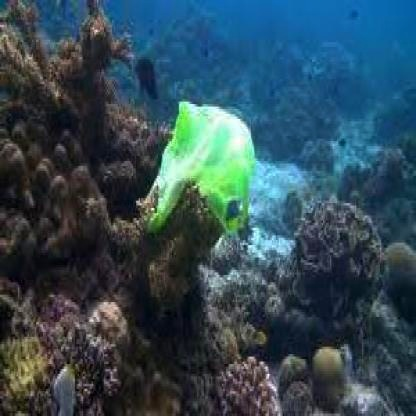pbag: (144, 99, 257, 238)
